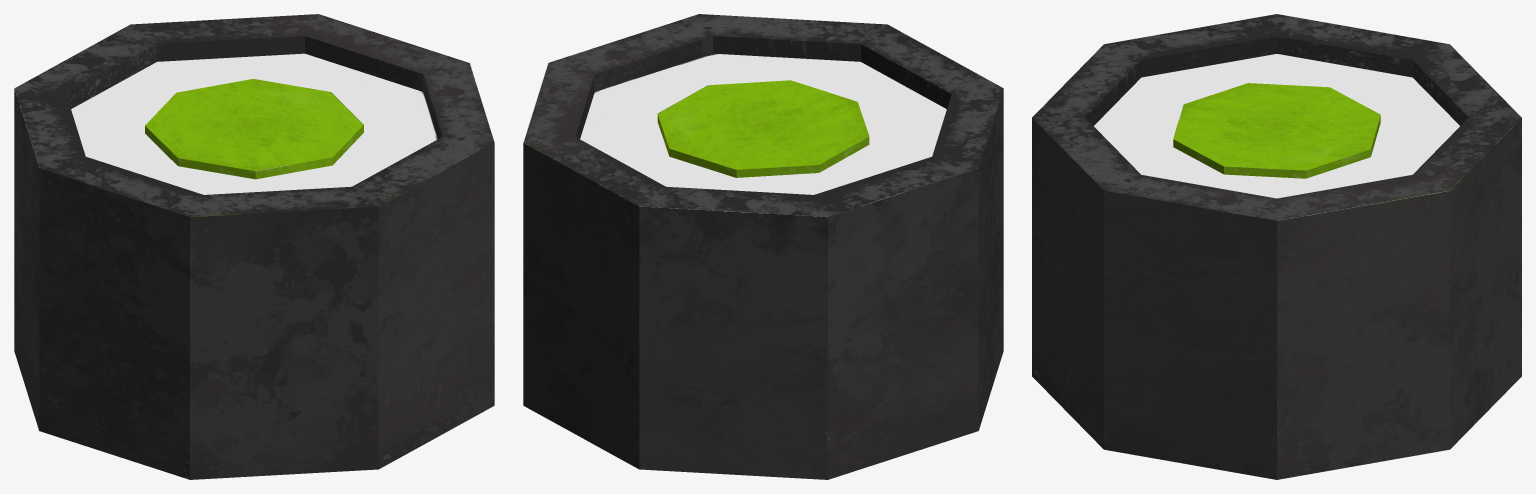
Rendered from maki_avocado.fbx.
The picture shows the model from 3 angles, left to right: view 1: azimuth 30°, elevation 25°; view 2: azimuth 150°, elevation 25°; view 3: azimuth 270°, elevation 25°; orthographic projection.
Visible parts, largest first — view 1: maki; view 2: maki; view 3: maki.
Part boxes in pixels (x1,y1,x2,y2): maki: (14,14,494,479); maki: (523,14,1003,479); maki: (1032,14,1521,479).
Bounding box in the file's own units: 64.71 × 37.78 × 64.71.
